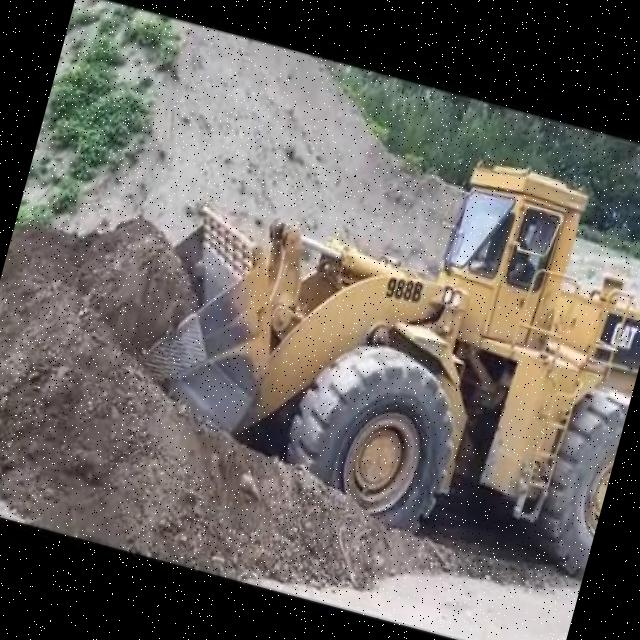Loader: (75, 60, 640, 584)
